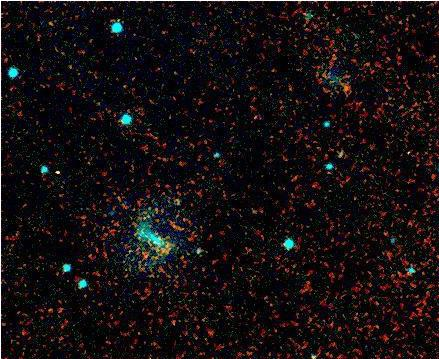star: (52, 154, 82, 184)
